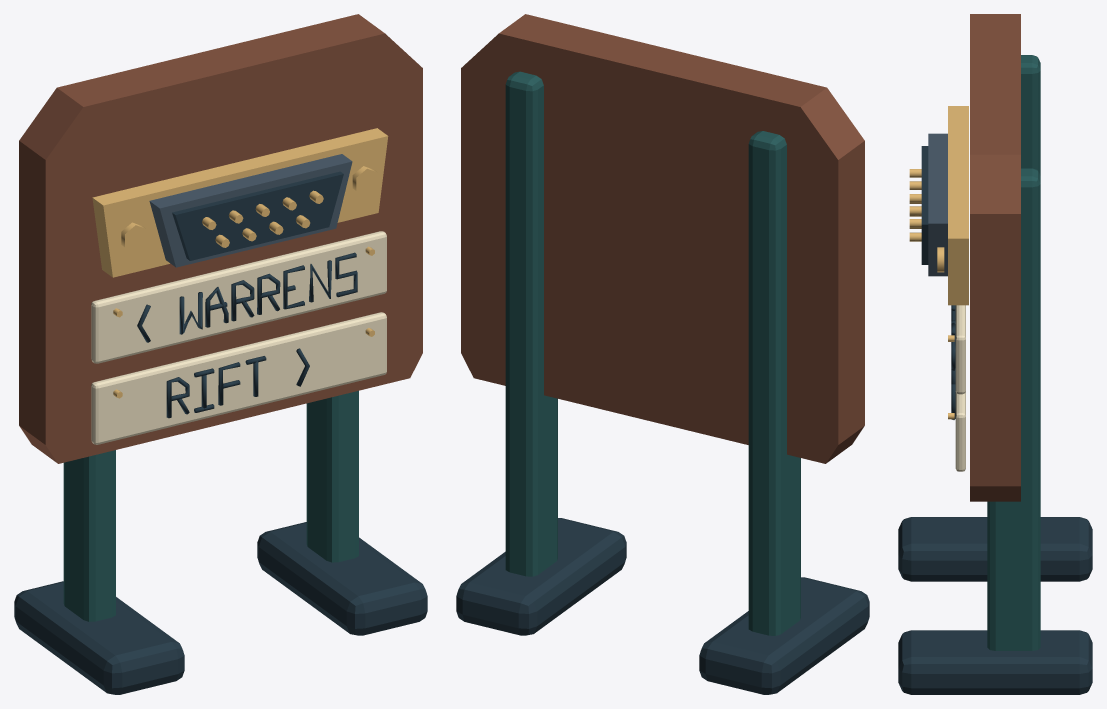
The picture shows the model from 3 angles, left to right: view 1: azimuth 30°, elevation 25°; view 2: azimuth 150°, elevation 25°; view 3: azimuth 270°, elevation 25°; orthographic projection. The views are drawn at different scales.
Visible parts, largest first — view 1: PR034 workshop surfaces; view 2: PR034 workshop surfaces; view 3: PR034 workshop surfaces.
Boxes of the visible parts, left/top/right/bottom form: PR034 workshop surfaces: left=14, top=14, right=427, bottom=694; PR034 workshop surfaces: left=456, top=14, right=869, bottom=694; PR034 workshop surfaces: left=898, top=14, right=1092, bottom=694.
Size of the model in its own units: 0.9643 by 1.38 by 0.45.
